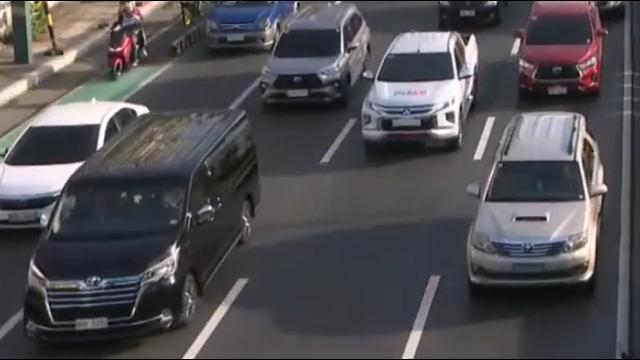car: (464, 110, 613, 297), (0, 85, 164, 228), (259, 4, 373, 112), (509, 0, 611, 97)
motorcycle: (105, 1, 149, 82)
pickup-truck: (356, 28, 487, 154)
van: (6, 107, 261, 334)
